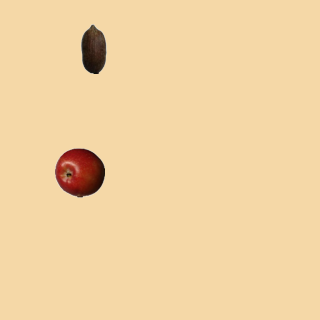Apple Braeburn: (54, 147, 104, 197)
Nut Pecan: (68, 23, 118, 73)
